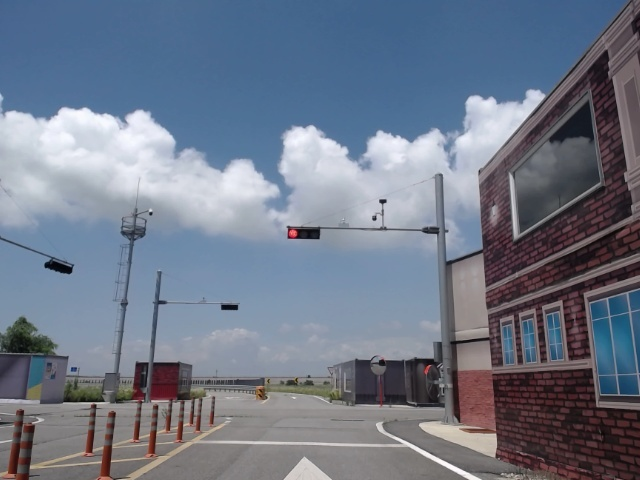red_3: (287, 227, 320, 240)
